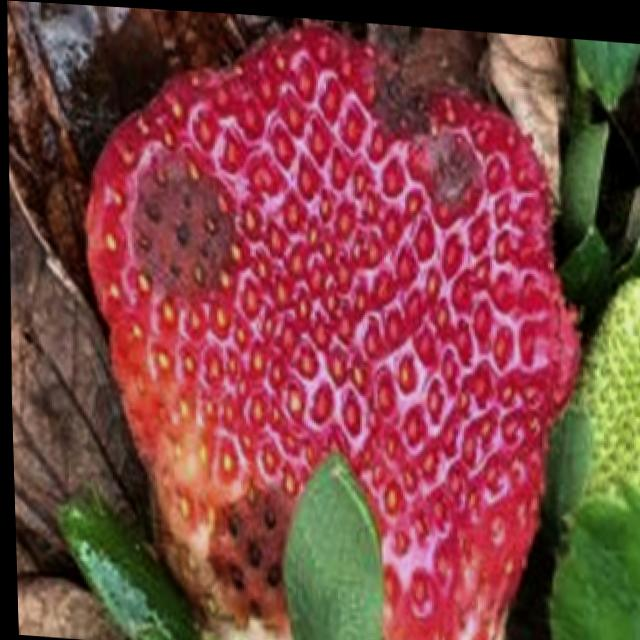Anthracnose Fruit Rot: (188, 454, 299, 637), (122, 136, 235, 306), (366, 56, 481, 204)
